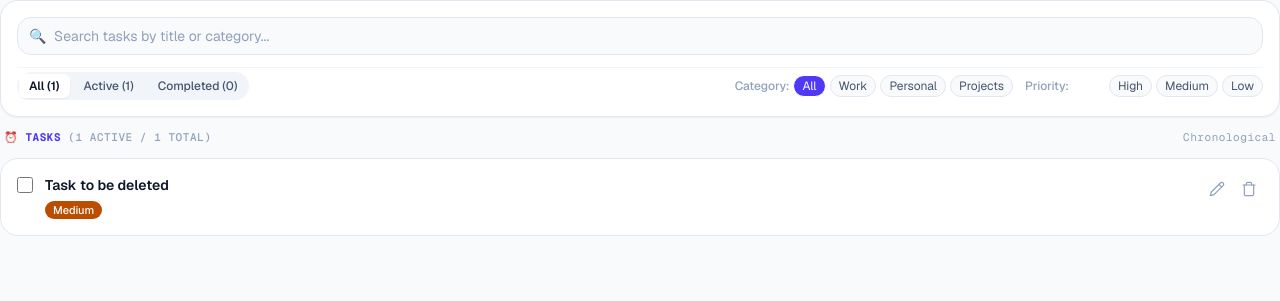
Test: TaskListComponent › should transition to empty state when all tasks are deleted via task card
The image size is (1280, 301).
// Click delete button and confirm
Click the button with class "delete-btn" at (1249, 188), box [1235, 174, 1263, 202]
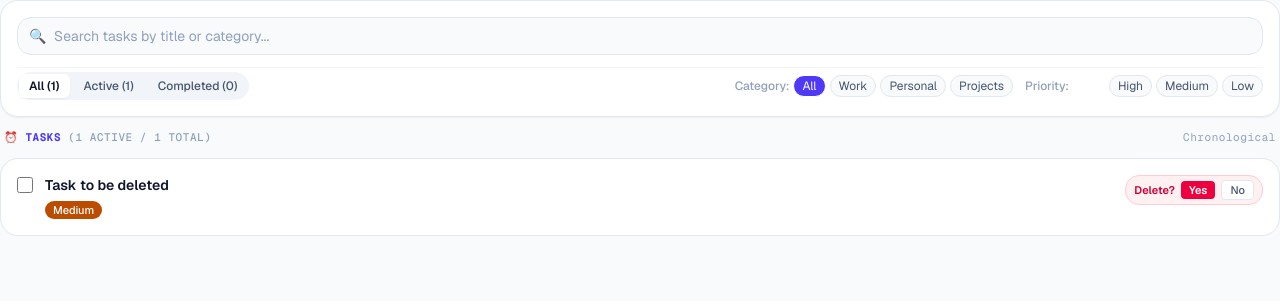
Click the button with class "confirm-delete-btn" at (1198, 190), box [1181, 180, 1216, 199]
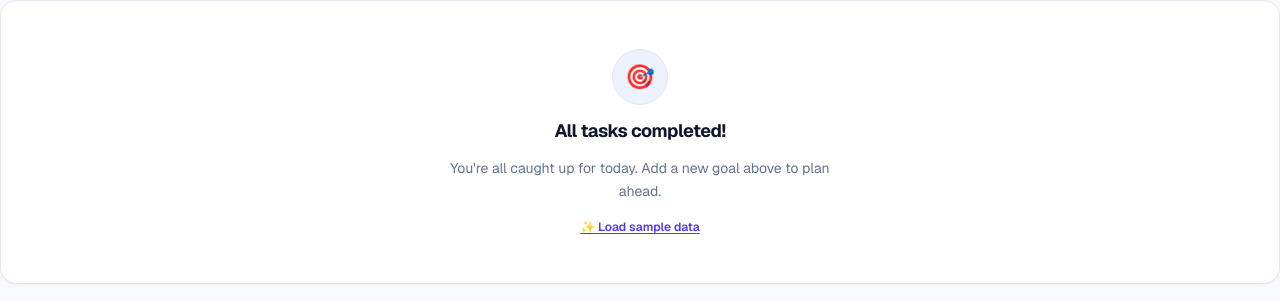
Check: the element with test id "empty-state" is shown
